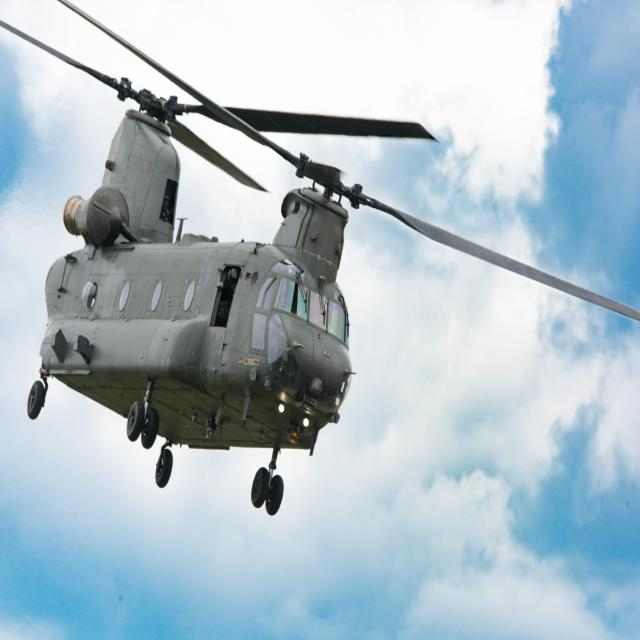Helicopter: (48, 70, 377, 486)
